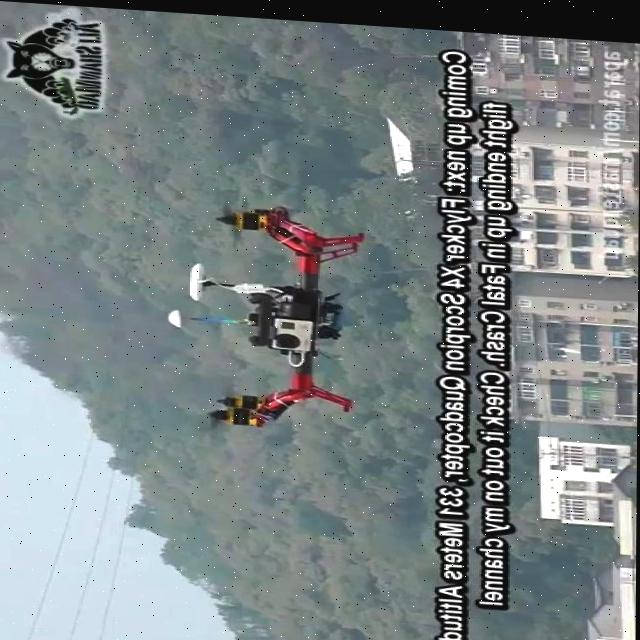drone: (157, 179, 367, 450)
